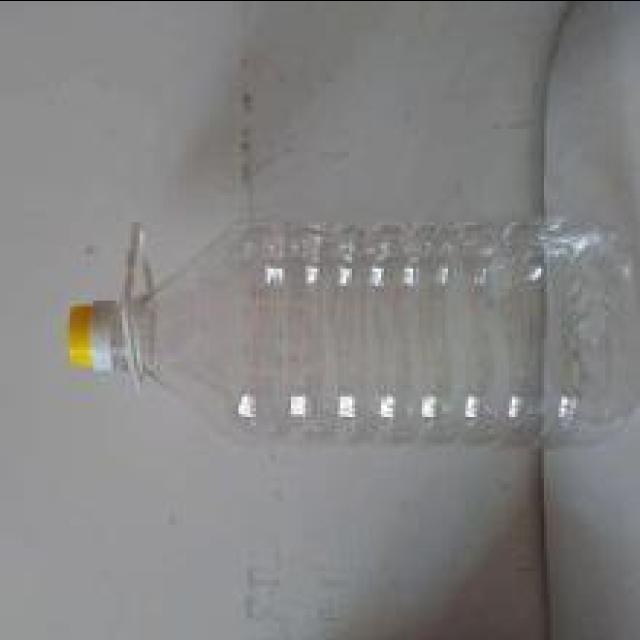-Recyclables - plastic bottle-: (64, 216, 638, 447)
